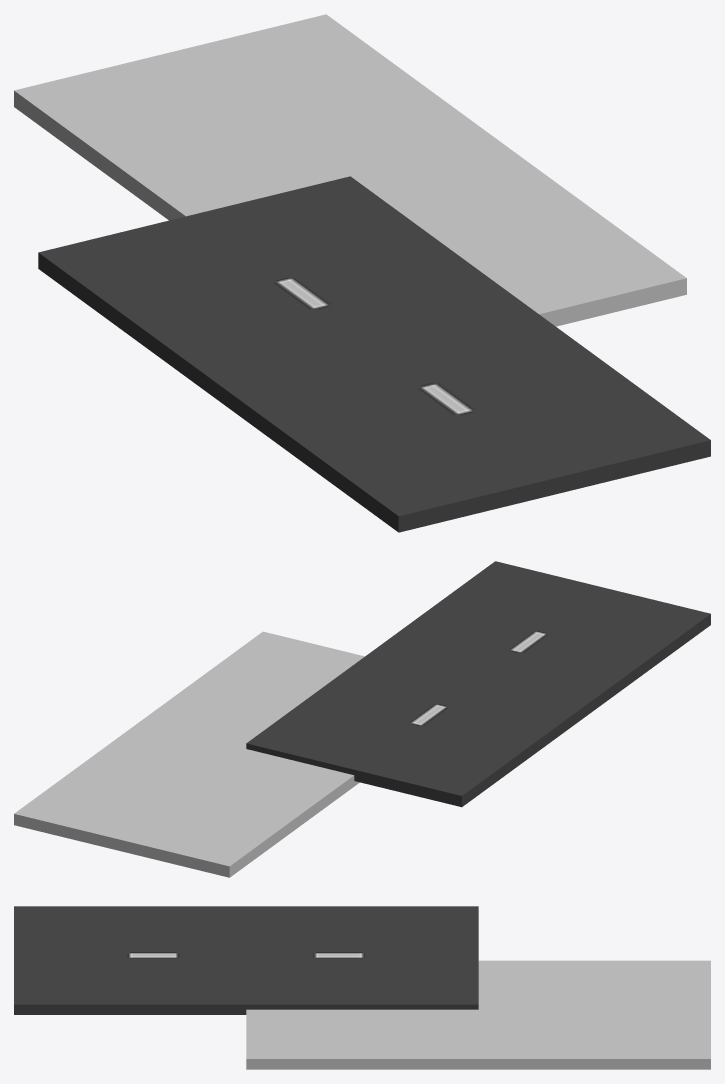
Rendered from SM_Factory_Road_07.fbx.
3 views of the same model, one above another, from view 1: azimuth 30°, elevation 25°; view 2: azimuth 150°, elevation 25°; view 3: azimuth 270°, elevation 25° (orthographic). The views are drawn at different scales.
Parts seen in each view (by area): view 1: SM_Factory_Road_07, SM_Factory_Road_07_ConvexHulls; view 2: SM_Factory_Road_07, SM_Factory_Road_07_ConvexHulls; view 3: SM_Factory_Road_07, SM_Factory_Road_07_ConvexHulls.
Part boxes in pixels (x1,y1,x2,y2): SM_Factory_Road_07: [38, 176, 710, 532]; SM_Factory_Road_07_ConvexHulls: [14, 14, 686, 326]; SM_Factory_Road_07: [246, 561, 710, 807]; SM_Factory_Road_07_ConvexHulls: [14, 631, 364, 877]; SM_Factory_Road_07: [14, 906, 478, 1014]; SM_Factory_Road_07_ConvexHulls: [246, 960, 710, 1069].
Size of the model in its own units: 750 by 1500 by 37.6.
Materials: 2 (1 with a texture image).
